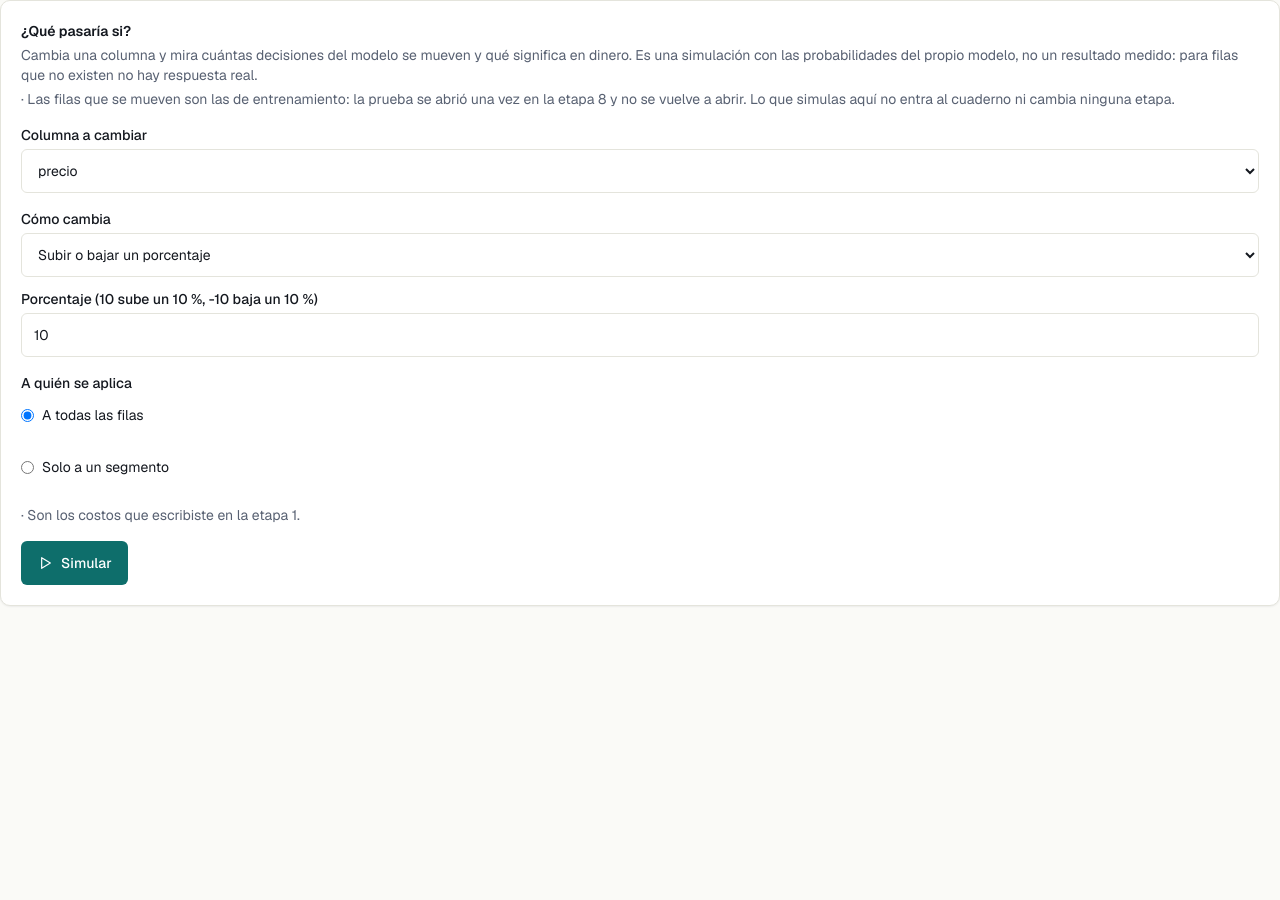
Test case: el panel «¿Qué pasaría si?» › con los costos de la etapa 1 no los vuelve a pedir y lo dice
Expected: the text "· Son los costos que escribiste en la etapa 1." is shown, [21,506,300,524]
Expected: the text "la prueba se abrió una vez en la etapa 8 y no se vuelve a abrir" is shown, [27,90,1174,108]
Click the button "Simular": (74, 563) [21,541,128,585]
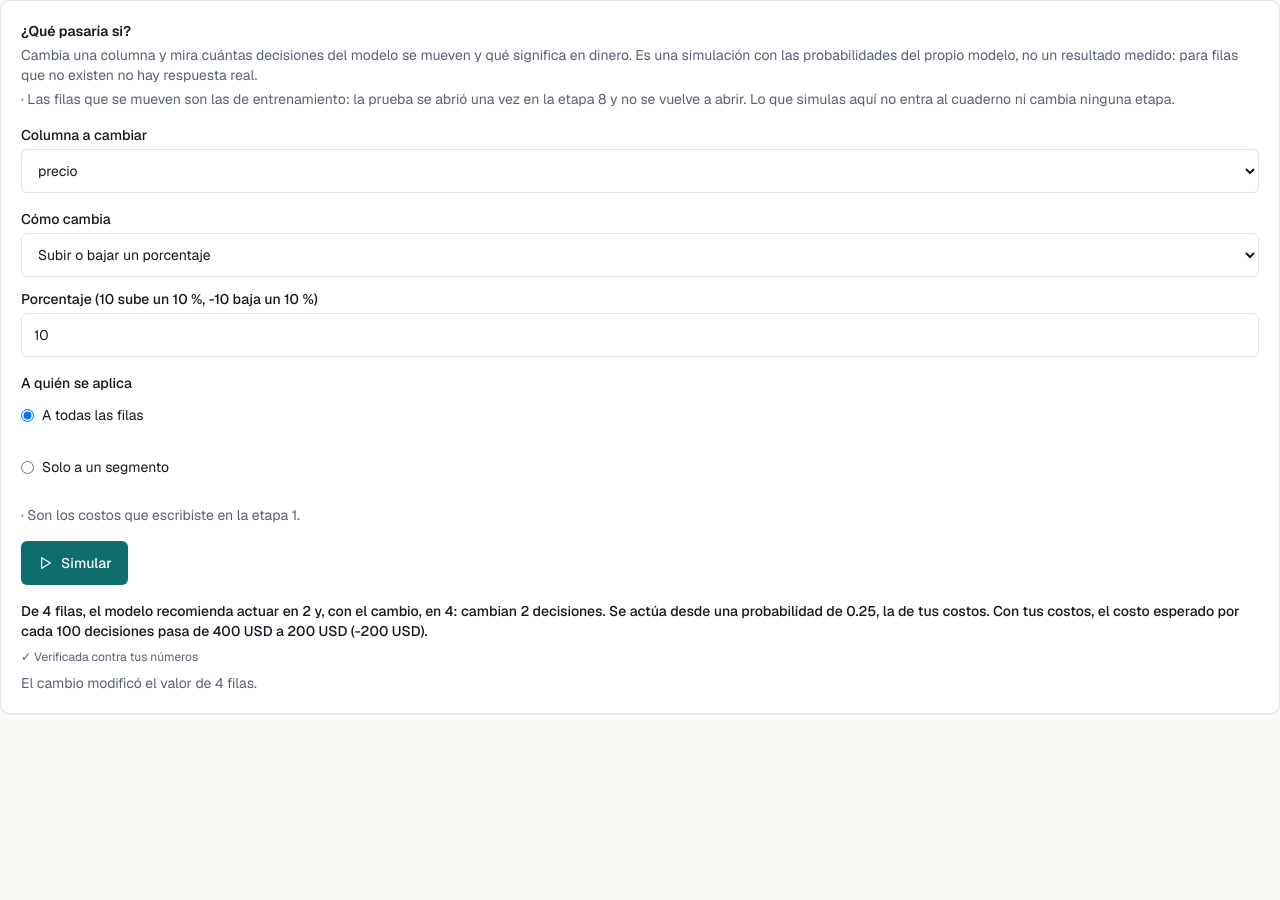
Expected: the text with test id "simulador-resumen" shows "USD", [21,602,1240,640]
